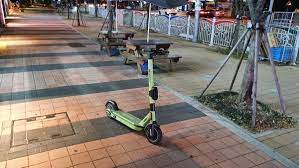kick_board: (105, 49, 162, 143)
kick_neck: (148, 60, 157, 119)
kick_wheel: (146, 124, 161, 143), (105, 100, 116, 117)
